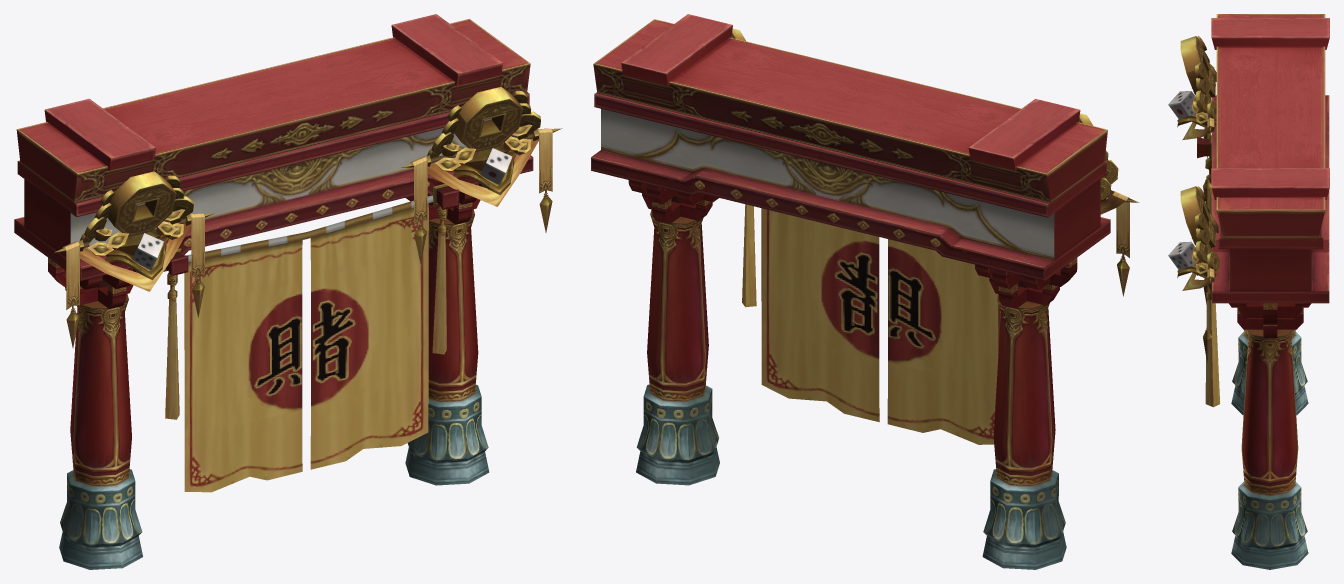
3 renders of one model, left to right at view 1: azimuth 30°, elevation 25°; view 2: azimuth 150°, elevation 25°; view 3: azimuth 270°, elevation 25°, orthographic. The views are drawn at different scales.
Parts seen in each view (by area): view 1: 56002; view 2: 56002; view 3: 56002.
Part boxes in pixels (<box>): 56002: <box>14,14,562,569</box>; 56002: <box>591,14,1139,569</box>; 56002: <box>1168,14,1329,569</box>.
Bounding box in the file's own units: 284 × 226 × 88.26.
Materials: 1 (1 with a texture image).
